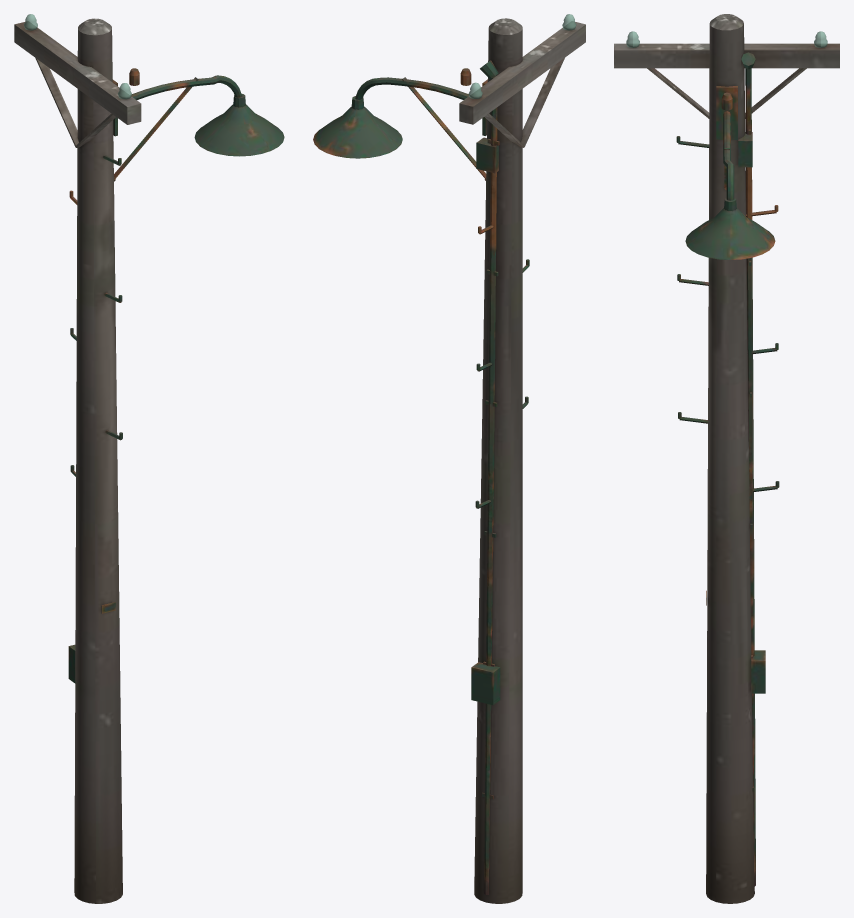
File: lamp_pole.glb
3 renders of one model, left to right at view 1: azimuth 30°, elevation 25°; view 2: azimuth 150°, elevation 25°; view 3: azimuth 270°, elevation 25°, orthographic.
Parts seen in each view (by area): view 1: wood_old, steel_weathered; view 2: wood_old, steel_weathered; view 3: wood_old, steel_weathered.
Boxes of the visible parts, x1=… form: wood_old: x1=14, y1=18, x2=141, y2=903; steel_weathered: x1=68, y1=68, x2=284, y2=683; wood_old: x1=459, y1=18, x2=585, y2=903; steel_weathered: x1=313, y1=60, x2=529, y2=894; wood_old: x1=614, y1=14, x2=839, y2=903; steel_weathered: x1=676, y1=52, x2=779, y2=886.
Size of the model in its own units: 1.34 by 5.33 by 1.25.
5 materials, 2 textured.
